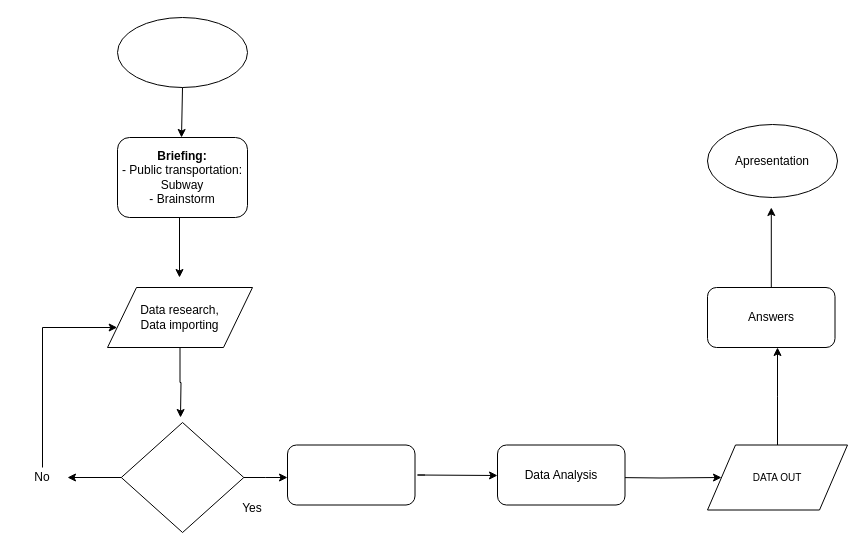
The diagram is 865 pixels wide and 550 high, and some of its shapes have lost their labels. The box of each missing label's shape, as (x1, y1, x2, y2) in pixels:
Data Cleaning/ Data Manipulation: (286, 444, 415, 505)
Our Datasets are suficient?: (120, 422, 244, 532)
Subject Definition: Public Transportation: (116, 16, 248, 88)
